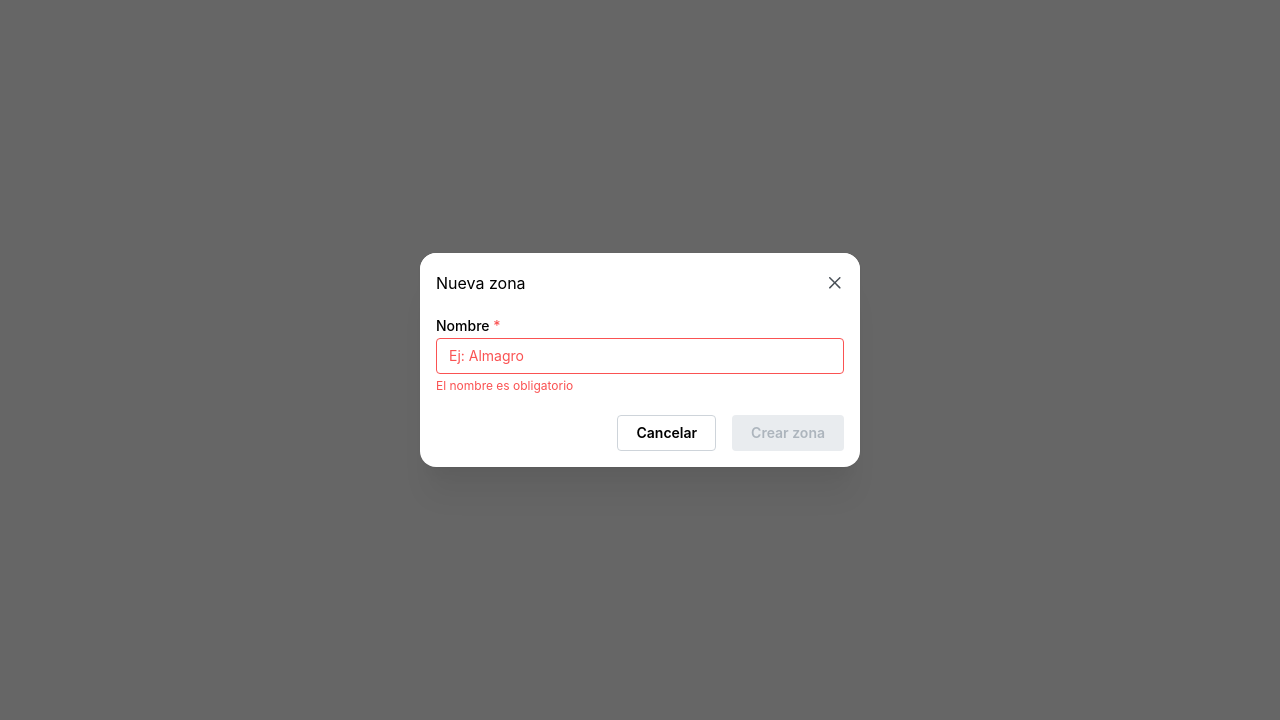
Test: ModalZona › muestra mensaje si la API falla
The width and height of the screenshot is (1280, 720).
Type "NuevaZona" into the field labelled "Nombre *" at (640, 356), box [436,338,844,374]
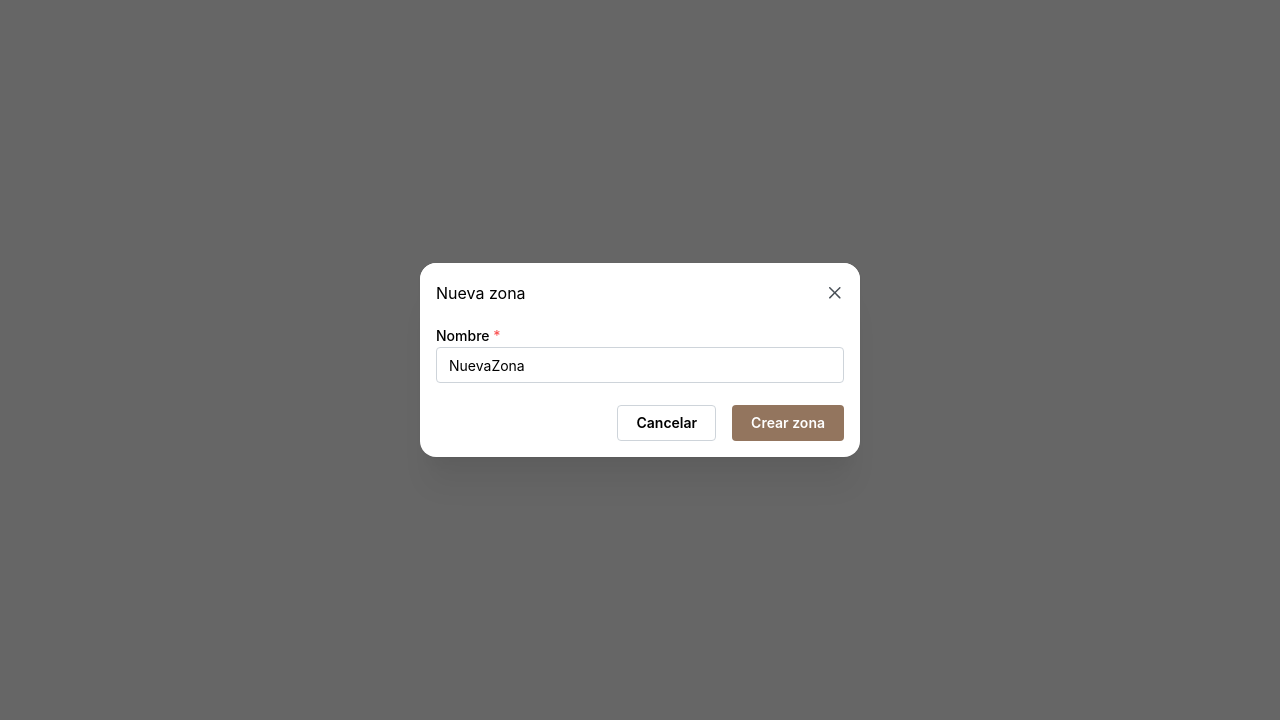
Click the button "Crear zona" at (788, 423), box [732,405,844,441]
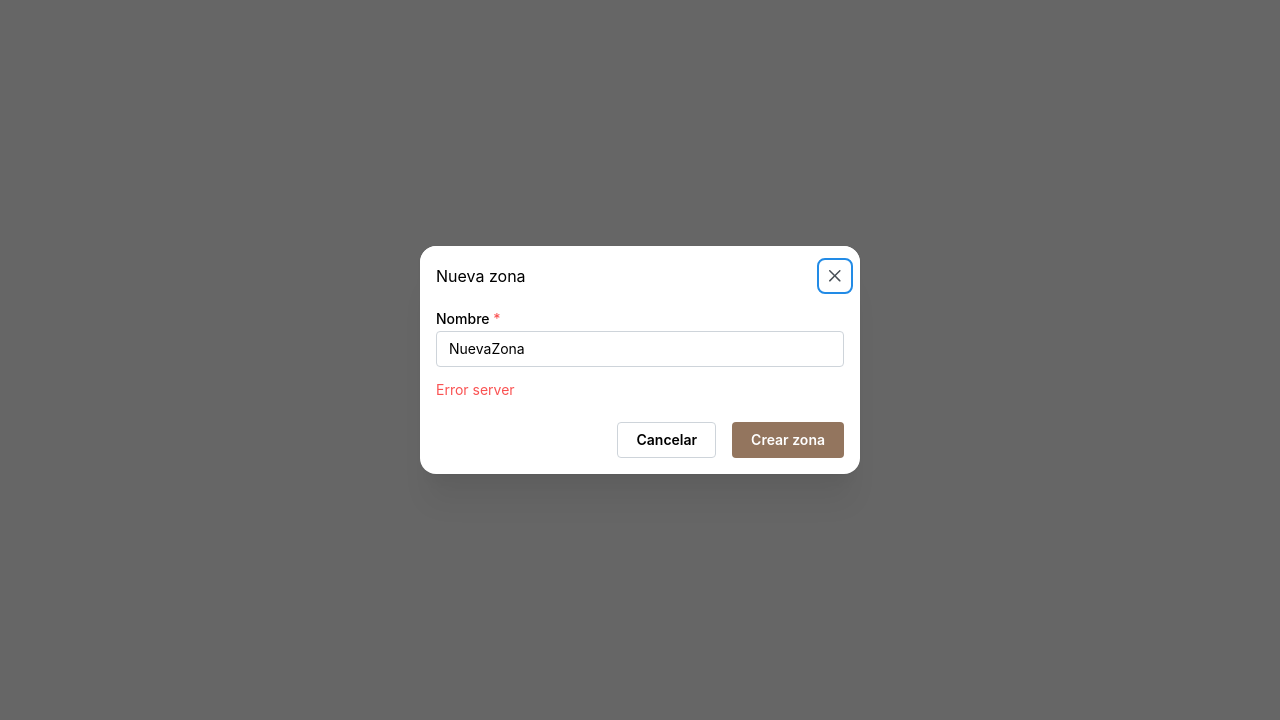
Now the text "Error server" is shown, box [436,380,515,398]
